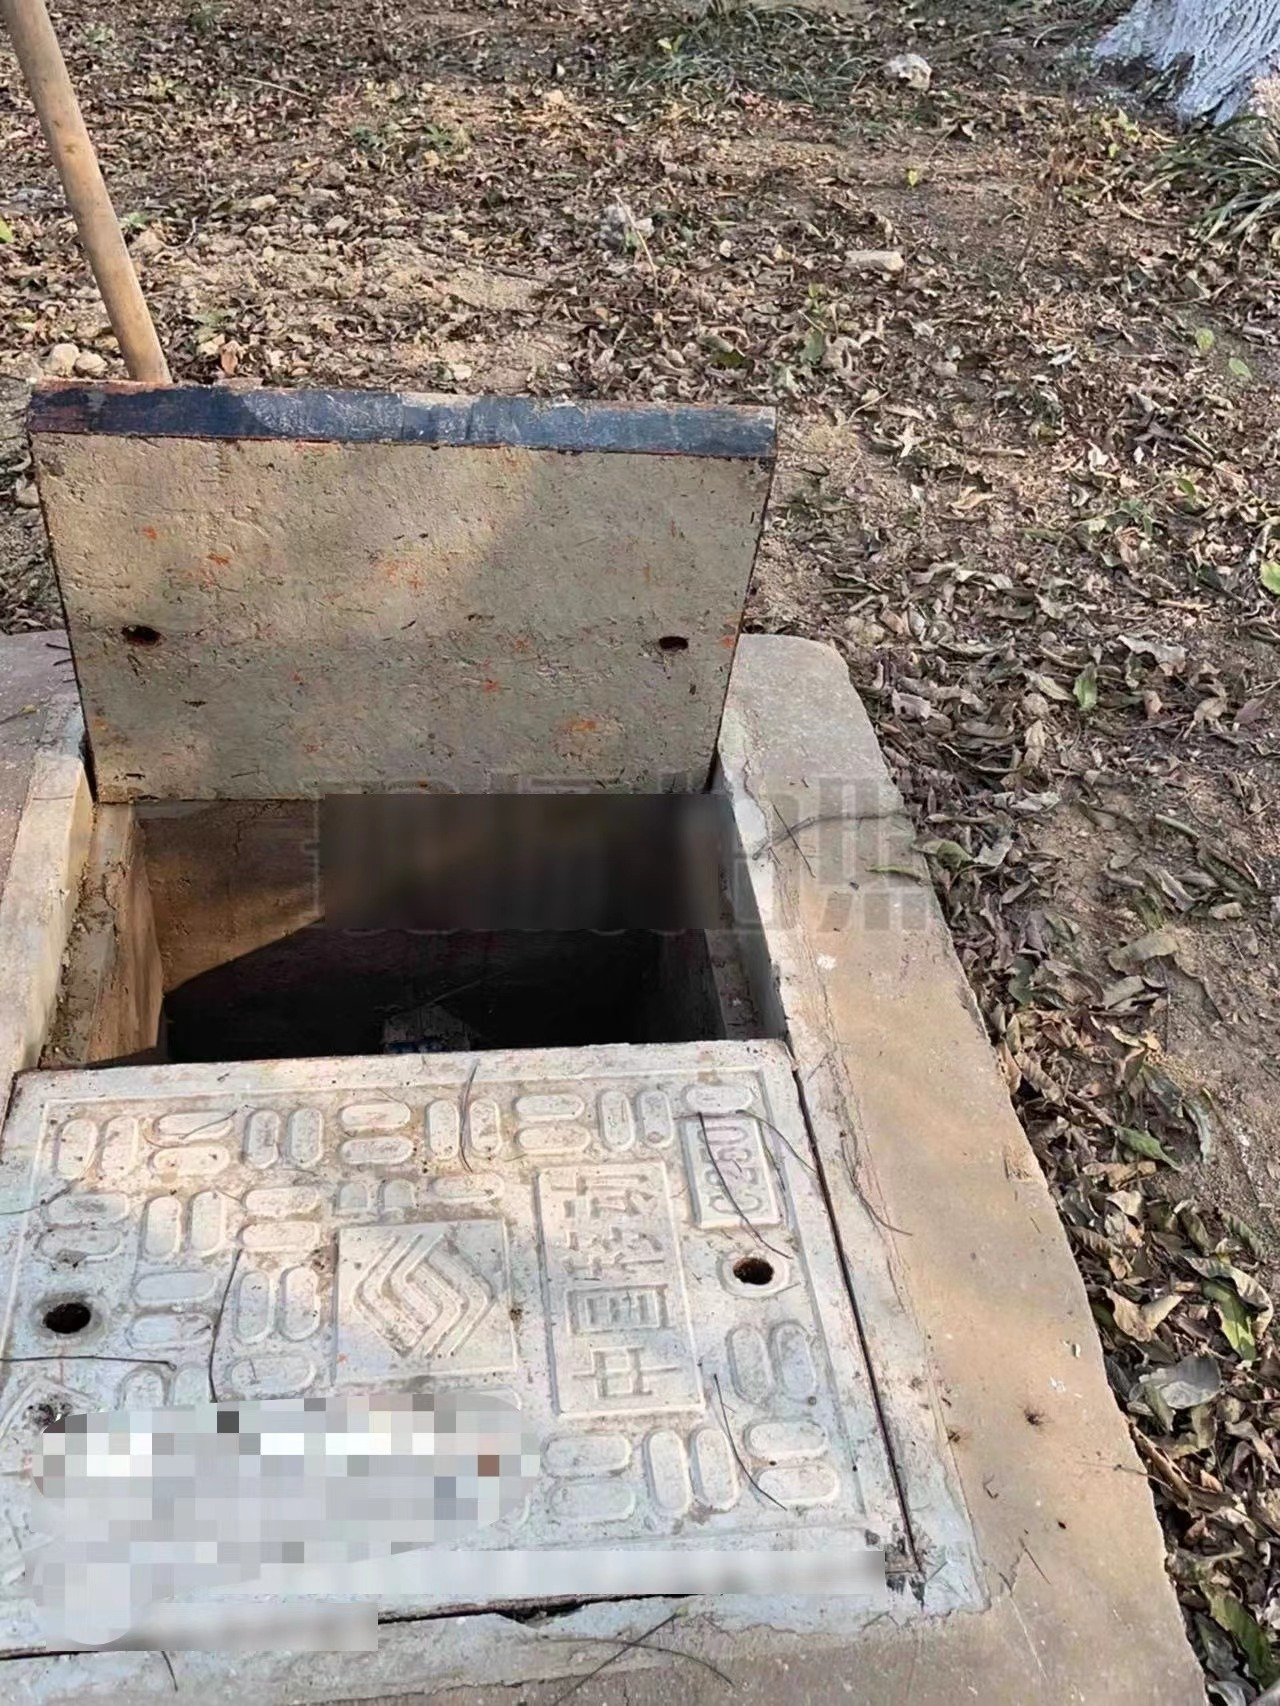well: (0, 393, 996, 1706)
